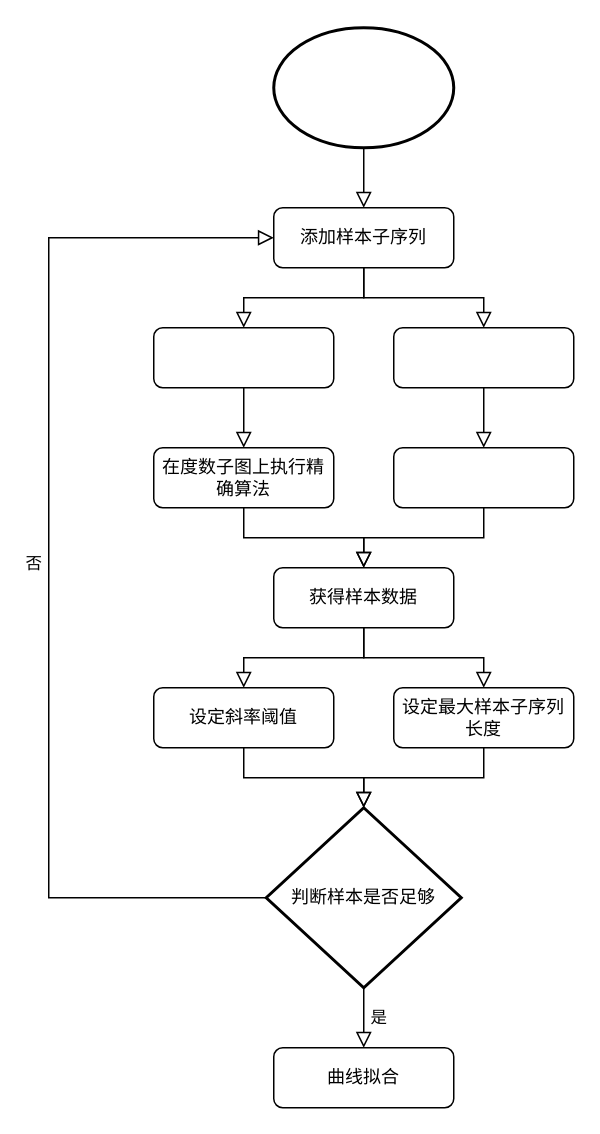
This 600x1134 diagram has some shape labels left out. The centre of each missing label's shape, as x and y in pixels:
"在度数子图上执行邻域采样算法" goes at pixel 483 477.
"模式分布构建开始" goes at pixel 363 87.
"设定准备方法" goes at pixel 243 357.
"设定近似方法" goes at pixel 483 357.
